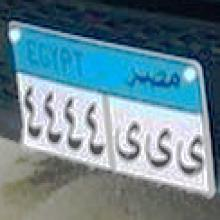4: (85, 98, 107, 162), (21, 83, 43, 141), (63, 97, 83, 153), (42, 90, 62, 146)
yaa: (176, 127, 205, 182), (143, 125, 172, 175), (114, 119, 142, 166)
